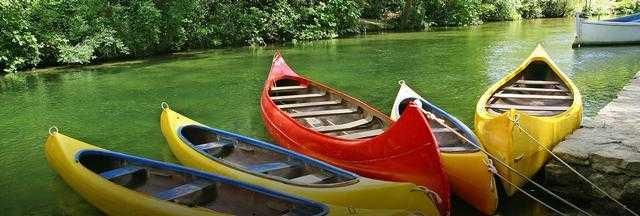kayak: (158, 105, 449, 215), (259, 49, 453, 206), (44, 127, 325, 216), (474, 41, 585, 192), (389, 80, 502, 214), (572, 12, 640, 47)
